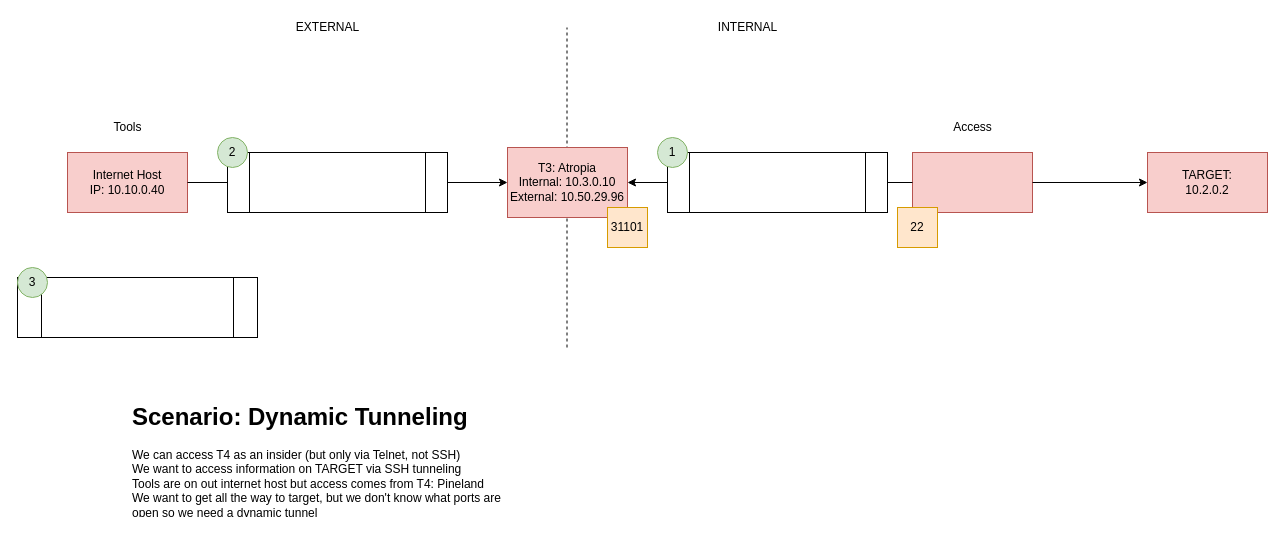
The diagram is 1285 pixels wide and 536 high, and some of its shapes have lost their labels. Each missing label, with the box of its shape:
from IH: proxychains ./scan.sh proxychains wget -r http://10.3.0.1: (16, 276, 258, 338)
from IH: ssh net3_student11@10.50.29.96 -D 9050 -NT: (226, 152, 448, 212)
T4: Pineland IP: 10.50.21.23: (912, 152, 1032, 212)
Telnet into T4 then ssh -R 31101:localhost:22 net3_student11@10.3.0.10 -NT: (666, 152, 888, 212)
